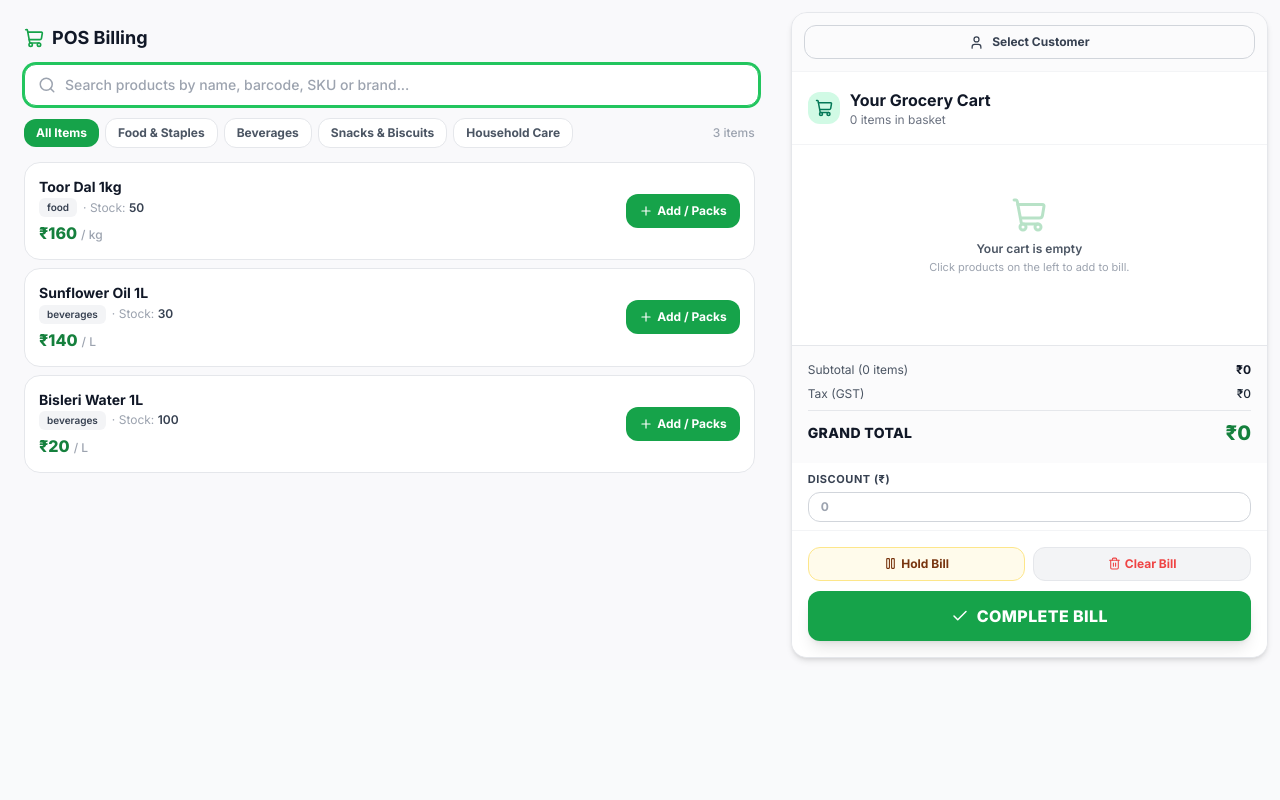
Test: POSPage Component & Buttons › renders packaged sizes (e.g. 500ml, 1L, 2L, 5L) for liquids and bottled products
Click the text "Sunflower Oil 1L". click: (94, 293)
box: [39, 284, 148, 301]
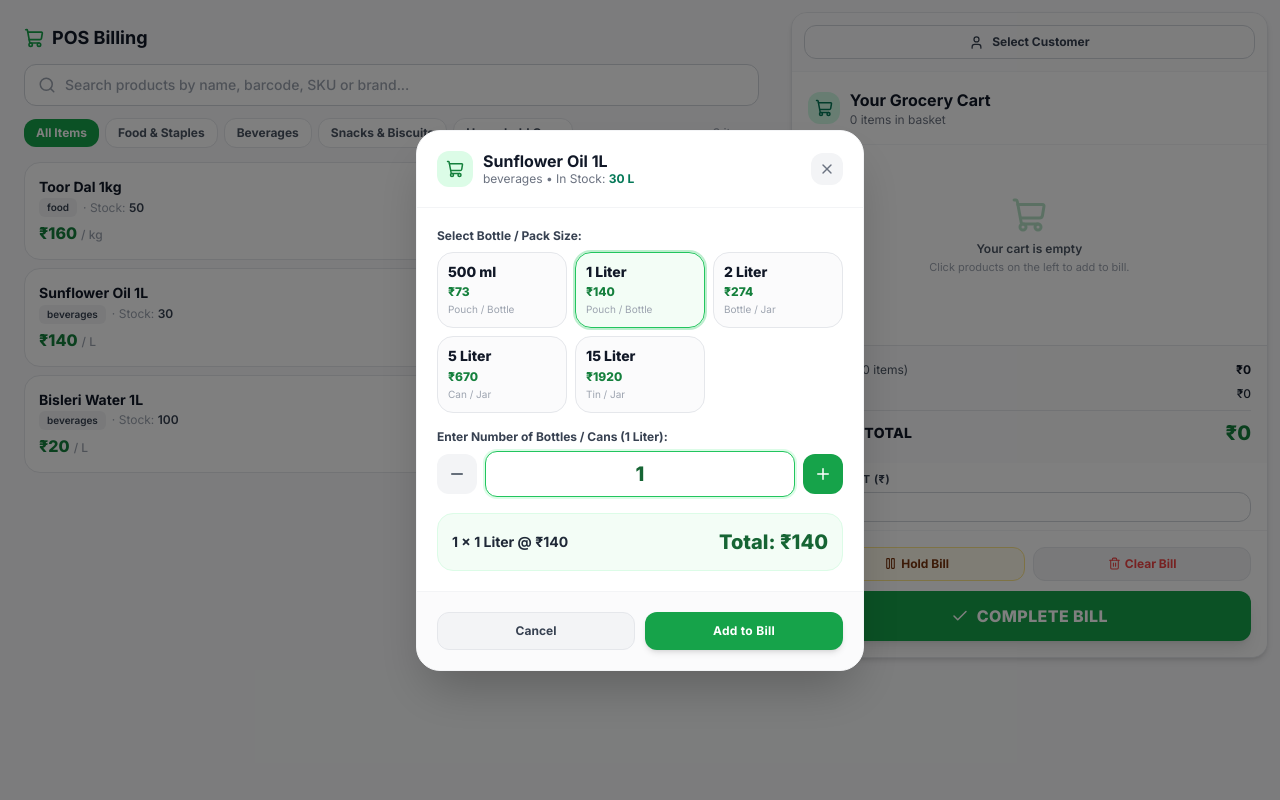
expect the text "Select Bottle / Pack Size:" is shown: met, box [437, 228, 582, 242]
expect the text "500 ml" is shown: met, box [448, 262, 496, 280]
expect the text "1 Liter" is shown: met, box [586, 262, 627, 280]
# Select 2 Liter
Click the text "2 Liter". click: (746, 271)
box: [724, 262, 767, 280]
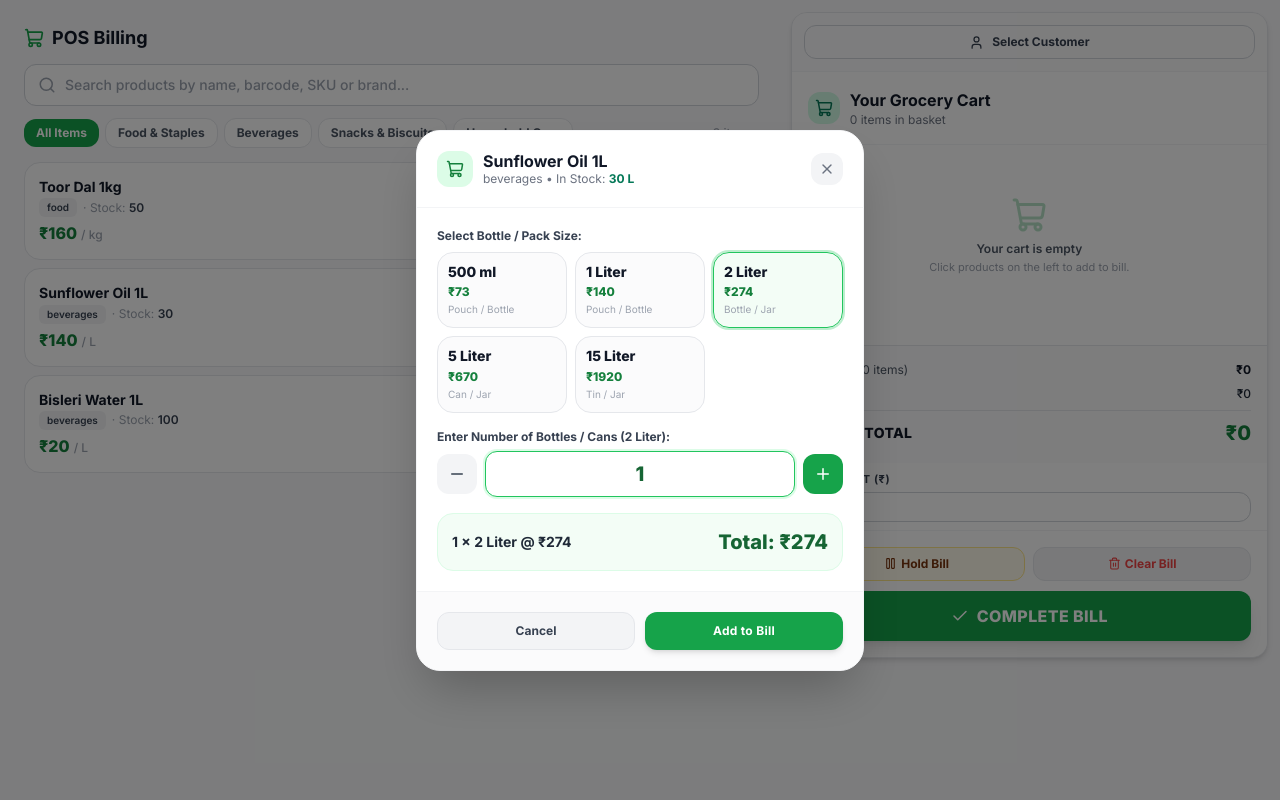
# Confirm add to bill
Click the button "Add to Bill". click: (744, 630)
box: [645, 612, 843, 650]
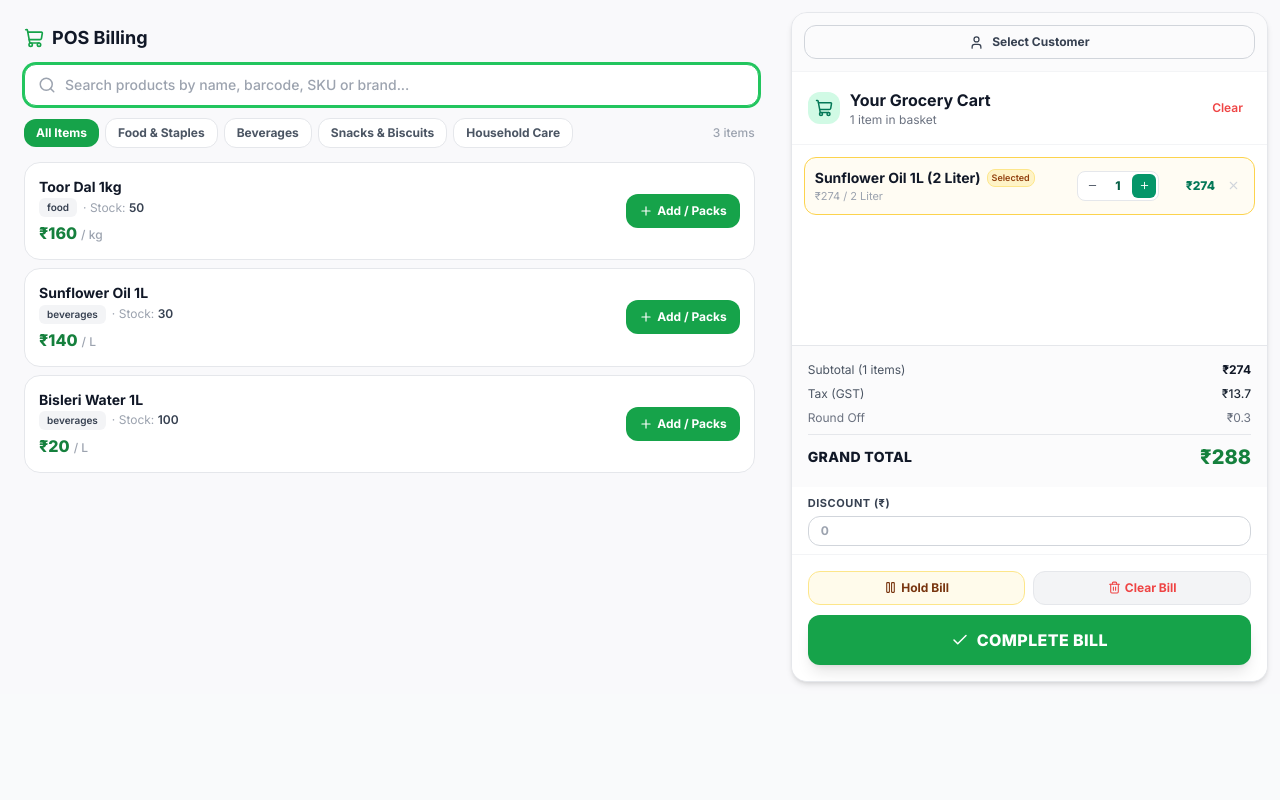
expect the text "Sunflower Oil 1L (2 Liter)" is shown: met, box [815, 168, 980, 188]
